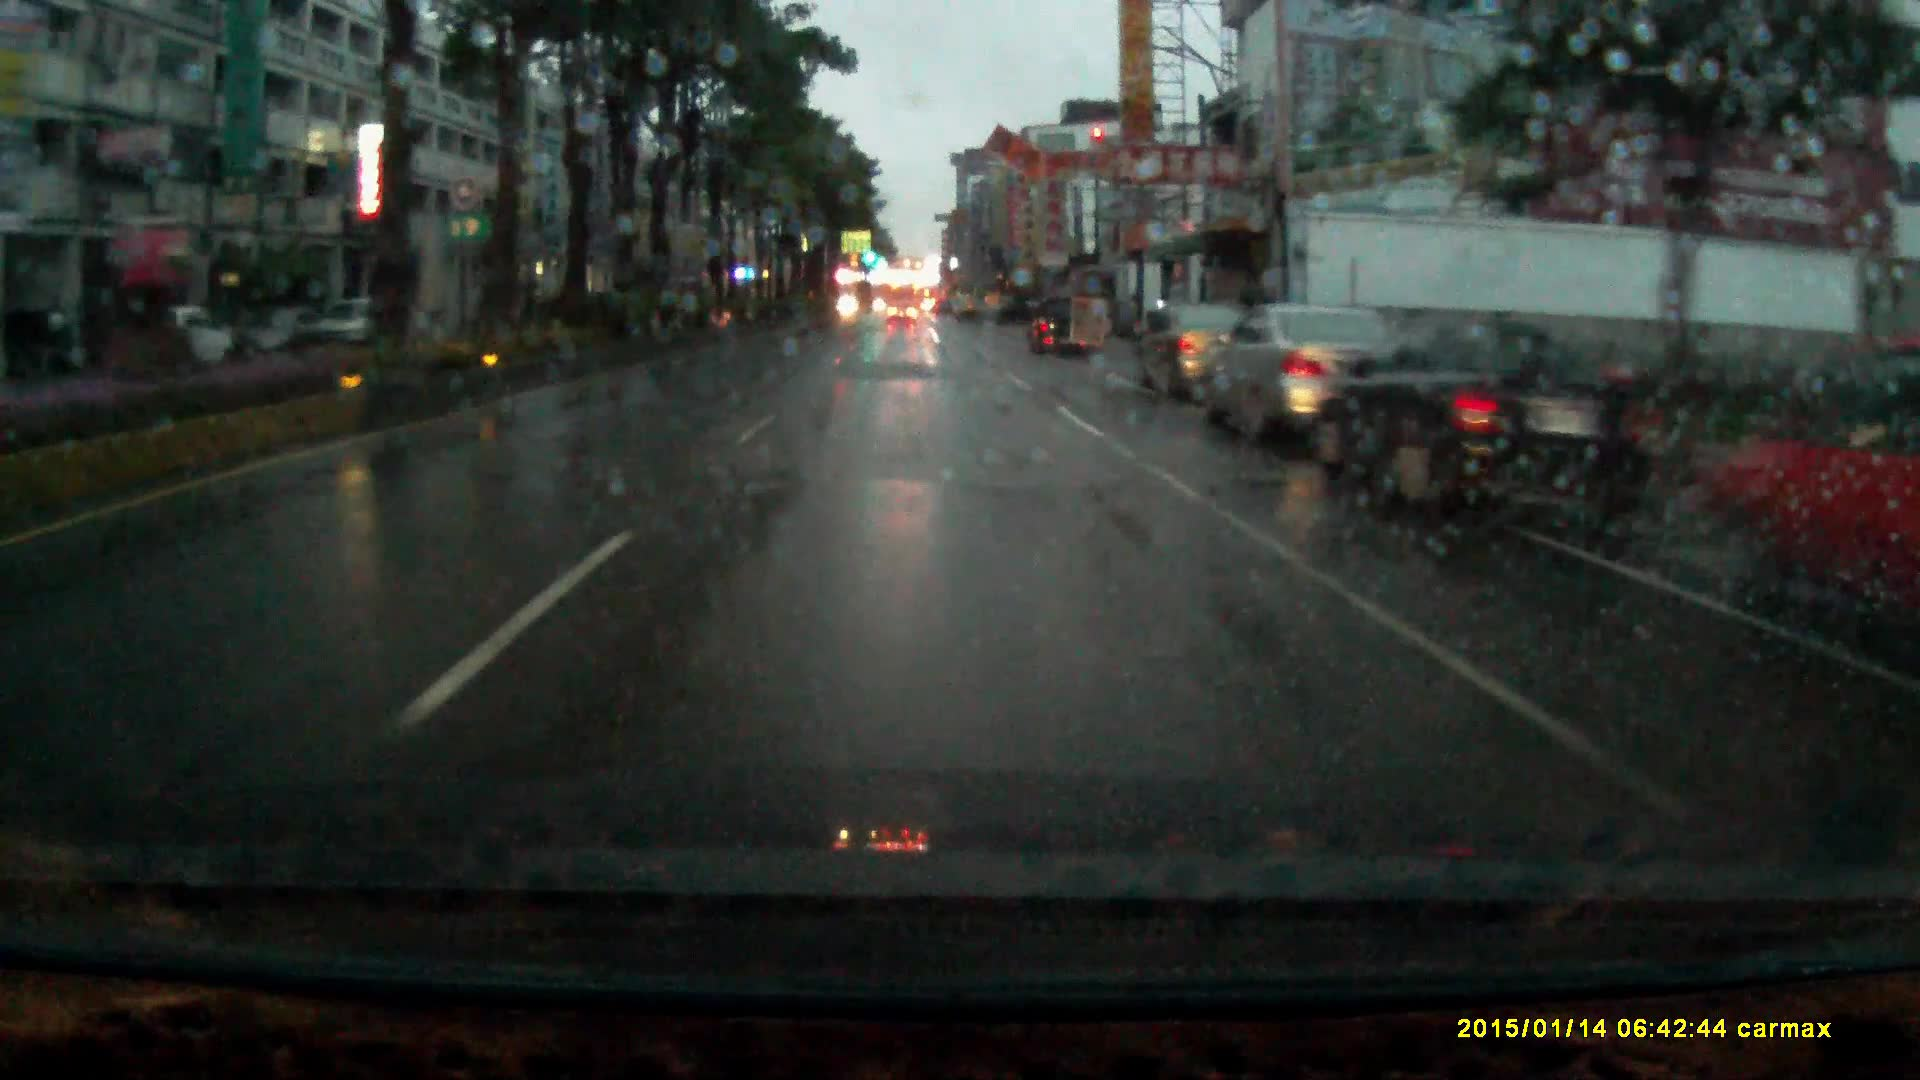vehicle: (1331, 305, 1604, 505), (1203, 295, 1464, 435), (1134, 299, 1251, 402), (301, 294, 423, 351), (144, 305, 235, 364), (1026, 287, 1093, 361), (886, 297, 920, 326)
